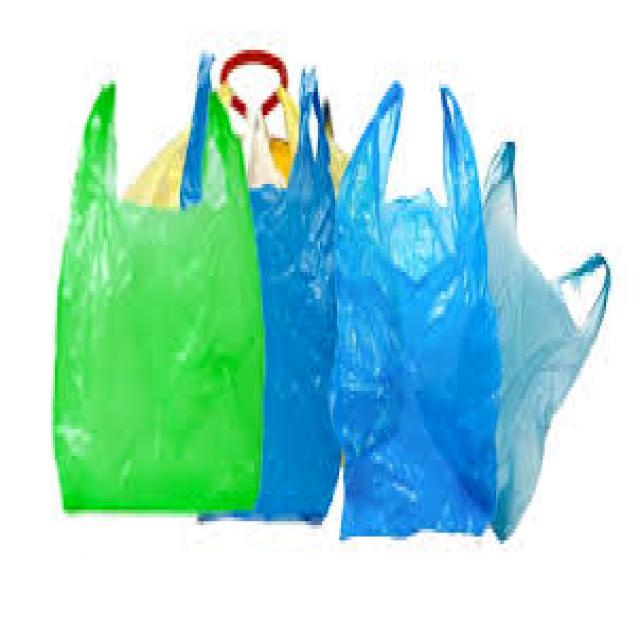Plastic: (49, 75, 266, 515), (325, 73, 503, 542)
